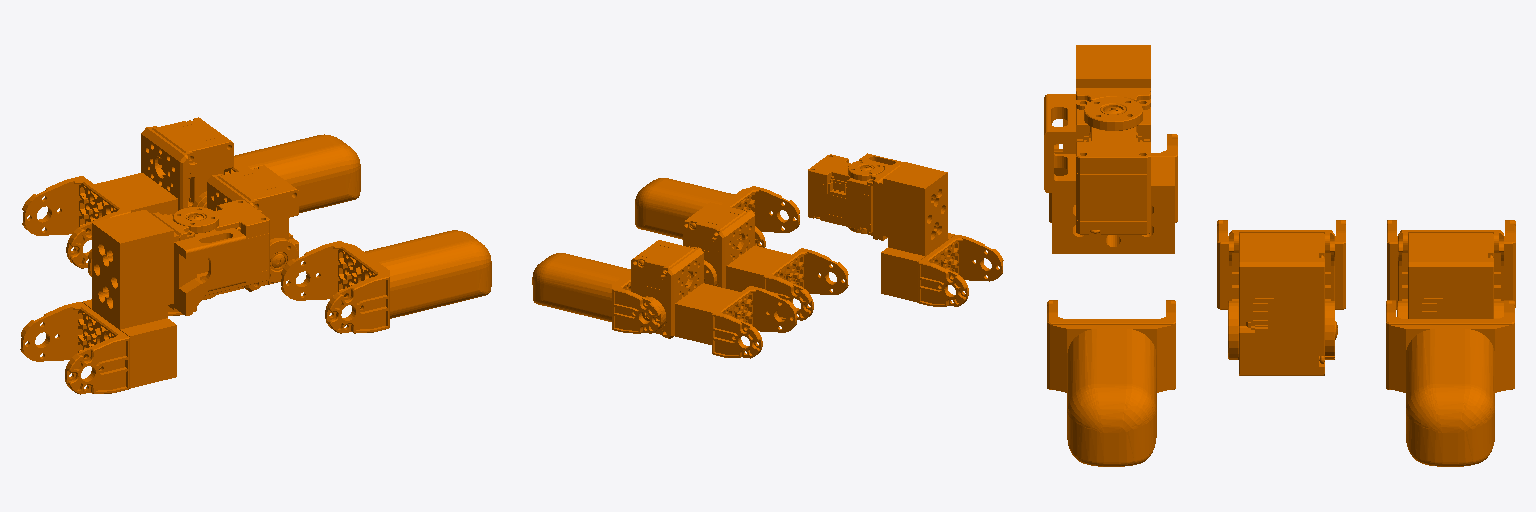
The robot description file, URDF, robot "onshape":
<robot name="onshape">
  <link name="palm_lower">
    <inertial>
      <origin xyz="0.0 0.0 0.0" rpy="0.0 -0.0 0.0"/>
      <mass value="0.237"/>
      <inertia ixx="0.000354094" ixy="-1.193e-06" ixz="-2.445e-06" iyy="0.000260915" iyz="-2.905e-06" izz="0.000529257"/>
    </inertial>
    <visual>
      <geometry>
        <mesh filename="../assets/leap/leap_hand/palm_lower.stl"/>
      </geometry>
      <origin xyz="-0.020095249652862544 0.025757756134899473 -0.034722403578460216" rpy="0.0 -0.0 0.0"/>
      <material name="palm_lower_material">
        <color rgba="0.6039215686274509 0.14901960784313725 0.14901960784313725 1.0"/>
      </material>
    </visual>
    <collision>
      <geometry>
        <mesh filename="../assets/leap/leap_hand/palm_lower.stl"/>
      </geometry>
      <origin xyz="-0.020095249652862544 0.025757756134899473 -0.034722403578460216" rpy="0.0 -0.0 0.0"/>
    </collision>
  </link>
  <link name="mcp_joint">
    <inertial>
      <origin xyz="0.0 0.0 0.0" rpy="0.0 -0.0 0.0"/>
      <mass value="0.044"/>
      <inertia ixx="1.1499e-05" ixy="3.049e-06" ixz="1.21e-07" iyy="7.796e-06" iyz="1.12e-07" izz="1.4759e-05"/>
    </inertial>
    <visual>
      <geometry>
        <mesh filename="../assets/leap/leap_hand/mcp_joint.stl"/>
      </geometry>
      <origin xyz="0.008406902261174496 0.0077662438597169954 0.014657354985032912" rpy="1.6375789613221e-15 -1.021047330249102e-30 1.7177968783327987e-31"/>
      <material name="mcp_joint_material">
        <color rgba="0.8666666666666667 0.8666666666666667 0.050980392156862744 1.0"/>
      </material>
    </visual>
    <collision>
      <geometry>
        <mesh filename="../assets/leap/leap_hand/mcp_joint.stl"/>
      </geometry>
      <origin xyz="0.008406902261174496 0.0077662438597169954 0.014657354985032912" rpy="1.6375789613221e-15 -1.021047330249102e-30 1.7177968783327987e-31"/>
    </collision>
  </link>
  <link name="pip">
    <inertial>
      <origin xyz="0.0 0.0 0.0" rpy="0.0 -0.0 0.0"/>
      <mass value="0.032"/>
      <inertia ixx="4.798e-06" ixy="1.2e-08" ixz="4e-09" iyy="2.862e-06" iyz="1.1e-08" izz="4.234e-06"/>
    </inertial>
    <visual>
      <geometry>
        <mesh filename="../assets/leap/leap_hand/pip.stl"/>
      </geometry>
      <origin xyz="0.009643363092271328 0.0002999999999999895 0.0007840340104173765" rpy="-1.5707963267948966 -1.5707963267948963 0.0"/>
      <material name="pip_material">
        <color rgba="0.7490196078431373 0.7490196078431373 0.7490196078431373 1.0"/>
      </material>
    </visual>
    <collision>
      <geometry>
        <mesh filename="../assets/leap/leap_hand/pip.stl"/>
      </geometry>
      <origin xyz="0.009643363092271328 0.0002999999999999895 0.0007840340104173765" rpy="-1.5707963267948966 -1.5707963267948963 0.0"/>
    </collision>
  </link>
  <link name="dip_long">
    <inertial>
      <origin xyz="0.0 0.0 0.0" rpy="0.0 -0.0 0.0"/>
      <mass value="0.037"/>
      <inertia ixx="5.542e-06" ixy="-6.07e-07" ixz="-1.7e-08" iyy="5.727e-06" iyz="-2.3e-08" izz="6.682e-06"/>
    </inertial>
    <visual>
      <geometry>
        <mesh filename="custom_models/dip_long.stl"/>
      </geometry>
      <origin xyz="0.021133352895225003 -0.00843211914670488 0.00978508816209524" rpy="-3.141592653589793 4.507511124216441e-32 4.439548105392361e-32"/>
      <material name="dip_material">
        <color rgba="0.878 0.467 0.0 1.0"/>
      </material>
    </visual>
    <collision>
      <geometry>
        <mesh filename="custom_models/dip_long.stl"/>
      </geometry>
      <origin xyz="0.021133352895225003 -0.00843211914670488 0.00978508816209524" rpy="-3.141592653589793 4.507511124216441e-32 4.439548105392361e-32"/>
    </collision>
  </link>
  <link name="fingertip_long">
    <inertial>
      <origin xyz="0.0 0.0 0.0" rpy="0.0 -0.0 0.0"/>
      <mass value="0.016"/>
      <inertia ixx="3.368e-06" ixy="1.15e-07" ixz="0.0" iyy="1.556e-06" iyz="0.0" izz="2.863e-06"/>
    </inertial>
    <visual>
      <geometry>
        <mesh filename="custom_models/fingertip_long.stl"/>
      </geometry>
      <origin xyz="0.013286424108533503 -0.006114238386541987 0.014499999999999498" rpy="3.141592653589793 1.1993117970061735e-33 4.439548105392361e-32"/>
      <material name="fingertip_material">
        <color rgba="0.878 0.467 0.0 1.0"/>
      </material>
    </visual>
    <collision>
      <geometry>
        <mesh filename="custom_models/fingertip_long.stl"/>
      </geometry>
      <origin xyz="0.013286424108533503 -0.006114238386541987 0.014499999999999498" rpy="3.141592653589793 1.1993117970061735e-33 4.439548105392361e-32"/>
    </collision>
  </link>
  <link name="pip_4">
    <inertial>
      <origin xyz="0.0 0.0 0.0" rpy="0.0 -0.0 0.0"/>
      <mass value="0.032"/>
      <inertia ixx="4.798e-06" ixy="1.2e-08" ixz="4e-09" iyy="2.862e-06" iyz="1.1e-08" izz="4.234e-06"/>
    </inertial>
    <visual>
      <geometry>
        <mesh filename="../assets/leap/leap_hand/pip.stl"/>
      </geometry>
      <origin xyz="-0.005356636907728671 0.0002999999999999999 0.0007840340104173782" rpy="-1.5707963267948966 -1.5707963267948963 0.0"/>
      <material name="pip_material">
        <color rgba="0.7490196078431373 0.7490196078431373 0.7490196078431373 1.0"/>
      </material>
    </visual>
    <collision>
      <geometry>
        <mesh filename="../assets/leap/leap_hand/pip.stl"/>
      </geometry>
      <origin xyz="-0.005356636907728671 0.0002999999999999999 0.0007840340104173782" rpy="-1.5707963267948966 -1.5707963267948963 0.0"/>
    </collision>
  </link>
  <link name="thumb_pip">
    <inertial>
      <origin xyz="0.0 0.0 0.0" rpy="0.0 -0.0 0.0"/>
      <mass value="0.003"/>
      <inertia ixx="5.93e-07" ixy="0.0" ixz="0.0" iyy="5.49e-07" iyz="0.0" izz="2.24e-07"/>
    </inertial>
    <visual>
      <geometry>
        <mesh filename="../assets/leap/leap_hand/thumb_pip.stl"/>
      </geometry>
      <origin xyz="0.011961920770611187 -5.30825383648903e-16 -0.0158526489566642" rpy="1.5707963267948966 1.6050198443300153e-46 -3.9204996250525193e-59"/>
      <material name="thumb_pip_material">
        <color rgba="0.8666666666666667 0.8666666666666667 0.050980392156862744 1.0"/>
      </material>
    </visual>
    <collision>
      <geometry>
        <mesh filename="../assets/leap/leap_hand/thumb_pip.stl"/>
      </geometry>
      <origin xyz="0.011961920770611187 -5.30825383648903e-16 -0.0158526489566642" rpy="1.5707963267948966 1.6050198443300153e-46 -3.9204996250525193e-59"/>
    </collision>
  </link>
  <link name="thumb_dip">
    <inertial>
      <origin xyz="0.0 0.0 0.0" rpy="0.0 -0.0 0.0"/>
      <mass value="0.038"/>
      <inertia ixx="8.474e-06" ixy="2.41e-07" ixz="2.6e-08" iyy="3.841e-06" iyz="2.5e-08" izz="7.679e-06"/>
    </inertial>
    <visual>
      <geometry>
        <mesh filename="../assets/leap/leap_hand/thumb_dip.stl"/>
      </geometry>
      <origin xyz="0.043968715707239175 0.0579529529737092 -0.008628676449369476" rpy="1.94289029309401e-16 3.27515792264422e-15 1.112375852965736e-46"/>
      <material name="thumb_dip_material">
        <color rgba="0.8666666666666667 0.8666666666666667 0.050980392156862744 1.0"/>
      </material>
    </visual>
    <collision>
      <geometry>
        <mesh filename="../assets/leap/leap_hand/thumb_dip.stl"/>
      </geometry>
      <origin xyz="0.043968715707239175 0.0579529529737092 -0.008628676449369476" rpy="1.94289029309401e-16 3.27515792264422e-15 1.112375852965736e-46"/>
    </collision>
  </link>
  <link name="thumb_fingertip">
    <inertial>
      <origin xyz="0.0 0.0 0.0" rpy="0.0 -0.0 0.0"/>
      <mass value="0.049"/>
      <inertia ixx="2.0372e-05" ixy="-4.89e-07" ixz="-3e-08" iyy="4.336e-06" iyz="-9.7e-08" izz="1.9845e-05"/>
    </inertial>
    <visual>
      <geometry>
        <mesh filename="../assets/leap/leap_hand/thumb_fingertip.stl"/>
      </geometry>
      <origin xyz="0.06255953846266739 0.07845968291139699 0.048992911807332215" rpy="4.379057701015637e-47 -3.33066907387547e-16 1.2042408677791935e-46"/>
      <material name="thumb_fingertip_material">
        <color rgba="0.6039215686274509 0.14901960784313725 0.14901960784313725 1.0"/>
      </material>
    </visual>
    <collision>
      <geometry>
        <mesh filename="../assets/leap/leap_hand/thumb_fingertip.stl"/>
      </geometry>
      <origin xyz="0.06255953846266739 0.07845968291139699 0.048992911807332215" rpy="4.379057701015637e-47 -3.33066907387547e-16 1.2042408677791935e-46"/>
    </collision>
  </link>
  <link name="mcp_joint_2">
    <inertial>
      <origin xyz="0.0 0.0 0.0" rpy="0.0 -0.0 0.0"/>
      <mass value="0.044"/>
      <inertia ixx="1.1499e-05" ixy="3.049e-06" ixz="1.21e-07" iyy="7.796e-06" iyz="1.12e-07" izz="1.4759e-05"/>
    </inertial>
    <visual>
      <geometry>
        <mesh filename="../assets/leap/leap_hand/mcp_joint.stl"/>
      </geometry>
      <origin xyz="0.008406902261174496 0.0077662438597169954 0.014657354985032914" rpy="1.6375789613221e-15 -1.0076465469034e-30 2.1209300131419907e-61"/>
      <material name="mcp_joint_material">
        <color rgba="0.8666666666666667 0.8666666666666667 0.050980392156862744 1.0"/>
      </material>
    </visual>
    <collision>
      <geometry>
        <mesh filename="../assets/leap/leap_hand/mcp_joint.stl"/>
      </geometry>
      <origin xyz="0.008406902261174496 0.0077662438597169954 0.014657354985032914" rpy="1.6375789613221e-15 -1.0076465469034e-30 2.1209300131419907e-61"/>
    </collision>
  </link>
  <link name="pip_2">
    <inertial>
      <origin xyz="0.0 0.0 0.0" rpy="0.0 -0.0 0.0"/>
      <mass value="0.032"/>
      <inertia ixx="4.798e-06" ixy="1.2e-08" ixz="4e-09" iyy="2.862e-06" iyz="1.1e-08" izz="4.234e-06"/>
    </inertial>
    <visual>
      <geometry>
        <mesh filename="../assets/leap/leap_hand/pip.stl"/>
      </geometry>
      <origin xyz="0.009643363092271328 0.0002999999999999947 0.0007840340104173765" rpy="-1.5707963267948966 -1.5707963267948963 0.0"/>
      <material name="pip_material">
        <color rgba="0.7490196078431373 0.7490196078431373 0.7490196078431373 1.0"/>
      </material>
    </visual>
    <collision>
      <geometry>
        <mesh filename="../assets/leap/leap_hand/pip.stl"/>
      </geometry>
      <origin xyz="0.009643363092271328 0.0002999999999999947 0.0007840340104173765" rpy="-1.5707963267948966 -1.5707963267948963 0.0"/>
    </collision>
  </link>
  <link name="dip_2_long">
    <inertial>
      <origin xyz="0.0 0.0 0.0" rpy="0.0 -0.0 0.0"/>
      <mass value="0.037"/>
      <inertia ixx="5.542e-06" ixy="-6.07e-07" ixz="-1.7e-08" iyy="5.727e-06" iyz="-2.3e-08" izz="6.682e-06"/>
    </inertial>
    <visual>
      <geometry>
        <mesh filename="custom_models/dip_long.stl"/>
      </geometry>
      <origin xyz="0.021133352895225003 -0.008432119146704865 0.009785088162095237" rpy="-3.141592653589793 2.1146933785271956e-32 1.4408183216511869e-31"/>
      <material name="dip_material">
        <color rgba="0.878 0.467 0.0 1.0"/>
      </material>
    </visual>
    <collision>
      <geometry>
        <mesh filename="custom_models/dip_long.stl"/>
      </geometry>
      <origin xyz="0.021133352895225003 -0.008432119146704865 0.009785088162095237" rpy="-3.141592653589793 2.1146933785271956e-32 1.4408183216511869e-31"/>
    </collision>
  </link>
  <link name="fingertip_2">
    <inertial>
      <origin xyz="0.0 0.0 0.0" rpy="0.0 -0.0 0.0"/>
      <mass value="0.016"/>
      <inertia ixx="3.368e-06" ixy="1.15e-07" ixz="0.0" iyy="1.556e-06" iyz="0.0" izz="2.863e-06"/>
    </inertial>
    <visual>
      <geometry>
        <mesh filename="../assets/leap/leap_hand/fingertip.stl"/>
      </geometry>
      <origin xyz="0.013286424108533496 -0.006114238386542001 0.014499999999999496" rpy="3.141592653589793 -4.317959788283594e-33 1.4408183216511869e-31"/>
      <material name="fingertip_material">
        <color rgba="0.8666666666666667 0.8666666666666667 0.050980392156862744 1.0"/>
      </material>
    </visual>
    <collision>
      <geometry>
        <mesh filename="../assets/leap/leap_hand/fingertip.stl"/>
      </geometry>
      <origin xyz="0.013286424108533496 -0.006114238386542001 0.014499999999999496" rpy="3.141592653589793 -4.317959788283594e-33 1.4408183216511869e-31"/>
    </collision>
  </link>
  <link name="mcp_joint_3_long">
    <inertial>
      <origin xyz="0.0 0.0 0.0" rpy="0.0 -0.0 0.0"/>
      <mass value="0.044"/>
      <inertia ixx="1.1499e-05" ixy="3.049e-06" ixz="1.21e-07" iyy="7.796e-06" iyz="1.12e-07" izz="1.4759e-05"/>
    </inertial>
    <visual>
      <geometry>
        <mesh filename="custom_models/mcp_joint_long.stl"/>
      </geometry>
      <origin xyz="0.0084069022611745 0.007766243859716996 0.014657354985032914" rpy="1.6375789613221e-15 -1.0059504988632627e-30 5.729641584552035e-32"/>
      <material name="mcp_joint_material">
        <color rgba="0.878 0.467 0.0 1.0"/>
      </material>
    </visual>
    <collision>
      <geometry>
        <mesh filename="custom_models/mcp_joint_long.stl"/>
      </geometry>
      <origin xyz="0.0084069022611745 0.007766243859716996 0.014657354985032914" rpy="1.6375789613221e-15 -1.0059504988632627e-30 5.729641584552035e-32"/>
    </collision>
  </link>
  <link name="pip_3">
    <inertial>
      <origin xyz="0.0 0.0 0.0" rpy="0.0 -0.0 0.0"/>
      <mass value="0.032"/>
      <inertia ixx="4.798e-06" ixy="1.2e-08" ixz="4e-09" iyy="2.862e-06" iyz="1.1e-08" izz="4.234e-06"/>
    </inertial>
    <visual>
      <geometry>
        <mesh filename="../assets/leap/leap_hand/pip.stl"/>
      </geometry>
      <origin xyz="0.009643363092271331 0.00029999999999998084 0.0007840340104173765" rpy="-1.5707963267948966 -1.5707963267948963 0.0"/>
      <material name="pip_material">
        <color rgba="0.7490196078431373 0.7490196078431373 0.7490196078431373 1.0"/>
      </material>
    </visual>
    <collision>
      <geometry>
        <mesh filename="../assets/leap/leap_hand/pip.stl"/>
      </geometry>
      <origin xyz="0.009643363092271331 0.00029999999999998084 0.0007840340104173765" rpy="-1.5707963267948966 -1.5707963267948963 0.0"/>
    </collision>
  </link>
  <link name="dip_3">
    <inertial>
      <origin xyz="0.0 0.0 0.0" rpy="0.0 -0.0 0.0"/>
      <mass value="0.037"/>
      <inertia ixx="5.542e-06" ixy="-6.07e-07" ixz="-1.7e-08" iyy="5.727e-06" iyz="-2.3e-08" izz="6.682e-06"/>
    </inertial>
    <visual>
      <geometry>
        <mesh filename="../assets/leap/leap_hand/dip.stl"/>
      </geometry>
      <origin xyz="0.021133352895225006 -0.008432119146704865 0.009785088162095237" rpy="-3.141592653589793 -1.4095651113919093e-33 1.5565411607615035e-32"/>
      <material name="dip_material">
        <color rgba="0.8666666666666667 0.8666666666666667 0.050980392156862744 1.0"/>
      </material>
    </visual>
    <collision>
      <geometry>
        <mesh filename="../assets/leap/leap_hand/dip.stl"/>
      </geometry>
      <origin xyz="0.021133352895225006 -0.008432119146704865 0.009785088162095237" rpy="-3.141592653589793 -1.4095651113919093e-33 1.5565411607615035e-32"/>
    </collision>
  </link>
  <link name="fingertip_3_long">
    <inertial>
      <origin xyz="0.0 0.0 0.0" rpy="0.0 -0.0 0.0"/>
      <mass value="0.016"/>
      <inertia ixx="3.368e-06" ixy="1.15e-07" ixz="0.0" iyy="1.556e-06" iyz="0.0" izz="2.863e-06"/>
    </inertial>
    <visual>
      <geometry>
        <mesh filename="custom_models/fingertip_long.stl"/>
      </geometry>
      <origin xyz="0.013286424108533501 -0.006114238386541987 0.0144999999999995" rpy="3.141592653589793 8.61707169505754e-33 1.5565411607615035e-32"/>
      <material name="fingertip_material">
        <color rgba="0.878 0.467 0.0 1.0"/>
      </material>
    </visual>
    <collision>
      <geometry>
        <mesh filename="custom_models/fingertip_long.stl"/>
      </geometry>
      <origin xyz="0.013286424108533501 -0.006114238386541987 0.0144999999999995" rpy="3.141592653589793 8.61707169505754e-33 1.5565411607615035e-32"/>
    </collision>
  </link>
  <joint name="1" type="revolute">
    <parent link="palm_lower"/>
    <child link="mcp_joint"/>
    <origin xyz="-0.007095249652862546 0.023057756134899472 -0.01872240357846022" rpy="1.570796326794895 1.5707963267948946 0.0"/>
    <axis xyz="0.0 0.0 -1.0"/>
    <limit effort="0.95" velocity="8.48" lower="-0.314" upper="2.23"/>
  </joint>
  <joint name="0" type="revolute">
    <parent link="mcp_joint"/>
    <child link="pip"/>
    <origin xyz="-0.012200000000000008 0.038099999999999995 0.0145" rpy="-1.5707963267948966 -1.0065212660796337e-15 1.5707963267948943"/>
    <axis xyz="0.0 0.0 -1.0"/>
    <limit effort="0.95" velocity="8.48" lower="-1.047" upper="1.047"/>
  </joint>
  <joint name="2" type="revolute">
    <parent link="pip"/>
    <child link="dip_long"/>
    <origin xyz="0.014999999999999968 0.014299999999999905 -0.012999999999999824" rpy="1.570796326794896 -1.5707963267948963 0.0"/>
    <axis xyz="0.0 0.0 -1.0"/>
    <limit effort="0.95" velocity="8.48" lower="-0.506" upper="1.885"/>
  </joint>
  <joint name="3" type="revolute">
    <parent link="dip_long"/>
    <child link="fingertip_long"/>
    <origin xyz="-4.0880582495572692636e-09 -0.051100004210367367397 0.00020000000000007858714" rpy="4.5935029425113685e-17 -2.8730071914463795e-16 4.439548105392361e-32"/>
    <axis xyz="0.0 0.0 -1.0"/>
    <limit effort="0.95" velocity="8.48" lower="-0.366" upper="2.042"/>
  </joint>
  <joint name="12" type="revolute">
    <parent link="palm_lower"/>
    <child link="pip_4"/>
    <origin xyz="-0.06939524965286253 -0.0012422438651005258 -0.021622403578460216" rpy="-8.238176646493942e-17 1.5707963267948957 0.0"/>
    <axis xyz="0.0 0.0 -1.0"/>
    <limit effort="0.95" velocity="8.48" lower="-0.349" upper="2.094"/>
  </joint>
  <joint name="13" type="revolute">
    <parent link="pip_4"/>
    <child link="thumb_pip"/>
    <origin xyz="-2.7755575615628914e-17 0.014300000000000005 -0.013000000000000012" rpy="1.570796326794896 -1.5707963267948963 0.0"/>
    <axis xyz="0.0 0.0 -1.0"/>
    <limit effort="0.95" velocity="8.48" lower="-0.47" upper="2.443"/>
  </joint>
  <joint name="14" type="revolute">
    <parent link="thumb_pip"/>
    <child link="thumb_dip"/>
    <origin xyz="0.0 0.014499999999999966 -0.017000000000000053" rpy="-1.5707963267948966 1.6050198443300131e-46 -1.9721522630516625e-31"/>
    <axis xyz="0.0 0.0 -1.0"/>
    <limit effort="0.95" velocity="8.48" lower="-1.2" upper="1.9"/>
  </joint>
  <joint name="15" type="revolute">
    <parent link="thumb_dip"/>
    <child link="thumb_fingertip"/>
    <origin xyz="-1.249000902703301e-16 0.046599999999999864 0.0001999999999999771" rpy="1.506395849149178e-44 5.423418723393526e-31 3.141592653589793"/>
    <axis xyz="0.0 0.0 -1.0"/>
    <limit effort="0.95" velocity="8.48" lower="-1.34" upper="1.88"/>
  </joint>
  <joint name="5" type="revolute">
    <parent link="palm_lower"/>
    <child link="mcp_joint_2"/>
    <origin xyz="-0.007095249652862546 -0.022392243865100525 -0.01872240357846022" rpy="1.570796326794895 1.5707963267948946 0.0"/>
    <axis xyz="0.0 0.0 -1.0"/>
    <limit effort="0.95" velocity="8.48" lower="-0.314" upper="2.23"/>
  </joint>
  <joint name="4" type="revolute">
    <parent link="mcp_joint_2"/>
    <child link="pip_2"/>
    <origin xyz="-0.012200000000000008 0.038099999999999995 0.0145" rpy="-1.5707963267948966 -1.0065212660796337e-15 1.5707963267948943"/>
    <axis xyz="0.0 0.0 -1.0"/>
    <limit effort="0.95" velocity="8.48" lower="-1.047" upper="1.047"/>
  </joint>
  <joint name="6" type="revolute">
    <parent link="pip_2"/>
    <child link="dip_2_long"/>
    <origin xyz="0.014999999999999968 0.014299999999999905 -0.012999999999999824" rpy="1.570796326794896 -1.5707963267948963 0.0"/>
    <axis xyz="0.0 0.0 -1.0"/>
    <limit effort="0.95" velocity="8.48" lower="-0.506" upper="1.885"/>
  </joint>
  <joint name="7" type="revolute">
    <parent link="dip_2_long"/>
    <child link="fingertip_2"/>
    <origin xyz="-4.0880582495572692636e-09 -0.051100004210367367397 0.00020000000000007858714" rpy="4.5935029425113685e-17 -2.8730071914463795e-16 4.439548105392361e-32"/>
    <axis xyz="0.0 0.0 -1.0"/>
    <limit effort="0.95" velocity="8.48" lower="-0.366" upper="2.042"/>
  </joint>
  <joint name="9" type="revolute">
    <parent link="palm_lower"/>
    <child link="mcp_joint_3_long"/>
    <origin xyz="-0.007095249652862546 -0.06784224386510052 -0.01872240357846022" rpy="1.570796326794895 1.5707963267948946 0.0"/>
    <axis xyz="0.0 0.0 -1.0"/>
    <limit effort="0.95" velocity="8.48" lower="-0.314" upper="2.23"/>
  </joint>
  <joint name="8" type="revolute">
    <parent link="mcp_joint_3_long"/>
    <child link="pip_3"/>
    <origin xyz="-0.012200000000000007713 0.053099999999999994982 0.014500000000000000736" rpy="-1.5707963267948966 -1.0065212660796337e-15 1.5707963267948943"/>
    <axis xyz="0.0 0.0 -1.0"/>
    <limit effort="0.95" velocity="8.48" lower="-1.047" upper="1.047"/>
  </joint>
  <joint name="10" type="revolute">
    <parent link="pip_3"/>
    <child link="dip_3"/>
    <origin xyz="0.014999999999999968 0.014299999999999905 -0.012999999999999824" rpy="1.570796326794896 -1.5707963267948963 0.0"/>
    <axis xyz="0.0 0.0 -1.0"/>
    <limit effort="0.95" velocity="8.48" lower="-0.506" upper="1.885"/>
  </joint>
  <joint name="11" type="revolute">
    <parent link="dip_3"/>
    <child link="fingertip_3_long"/>
    <origin xyz="-4.088058249557269e-09 -0.03610000421036737 0.0002000000000000786" rpy="4.5935029425113685e-17 -2.8730071914463795e-16 4.439548105392361e-32"/>
    <axis xyz="0.0 0.0 -1.0"/>
    <limit effort="0.95" velocity="8.48" lower="-0.366" upper="2.042"/>
  </joint>
</robot>

--- Render facts (derived) ---
Views: 3 orthographic renders of the robot side by side, from view 1: azimuth 30°, elevation 25°; view 2: azimuth 150°, elevation 25°; view 3: azimuth 270°, elevation 25°.
Robot: onshape — 17 links, 16 joints (16 revolute); root link palm_lower; default pose: all joints at 0.
Visible links, largest first — view 1: mcp_joint_3_long, fingertip_3_long, dip_long, fingertip_long, dip_2_long; view 2: mcp_joint_3_long, dip_long, dip_2_long, fingertip_long, fingertip_3_long; view 3: mcp_joint_3_long, dip_2_long, fingertip_3_long, fingertip_long, dip_long.
Boxes of the visible links, left/top/right/bottom form: mcp_joint_3_long: left=20, top=200, right=269, bottom=394; fingertip_3_long: left=281, top=230, right=491, bottom=333; dip_long: left=22, top=117, right=233, bottom=268; fingertip_long: left=198, top=134, right=360, bottom=212; dip_2_long: left=88, top=165, right=298, bottom=315; mcp_joint_3_long: left=808, top=153, right=1003, bottom=306; dip_long: left=631, top=240, right=796, bottom=358; dip_2_long: left=683, top=202, right=848, bottom=320; fingertip_long: left=532, top=253, right=662, bottom=333; fingertip_3_long: left=635, top=178, right=799, bottom=247; mcp_joint_3_long: left=1044, top=45, right=1177, bottom=253; dip_2_long: left=1217, top=220, right=1345, bottom=375; fingertip_3_long: left=1047, top=300, right=1175, bottom=466; fingertip_long: left=1386, top=300, right=1514, bottom=466; dip_long: left=1387, top=220, right=1515, bottom=318.
Bounding box of the posed robot: 0.1766 × 0.1265 × 0.0549 m (x, y, z).
5 mesh visuals loaded from 11 distinct referenced files (3 binary STL); not drawn: 12 (reference not matched to a file when rendering).